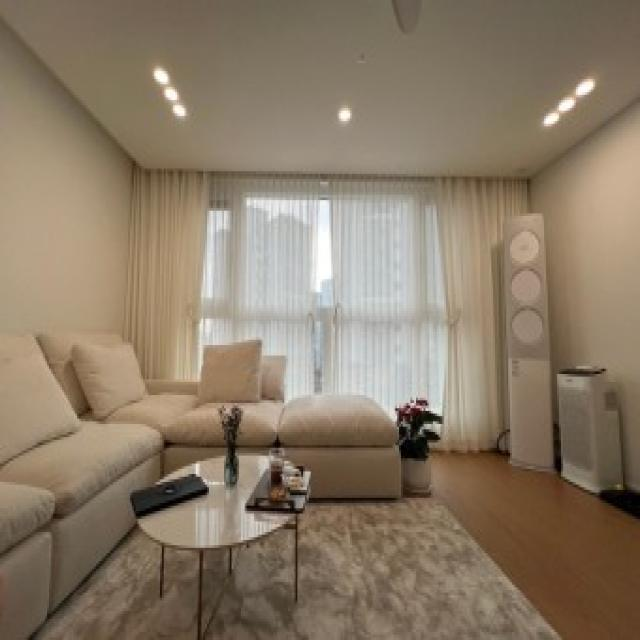Sofa: (7, 316, 405, 566)
Table: (138, 450, 306, 629)
window: (120, 164, 498, 368)
